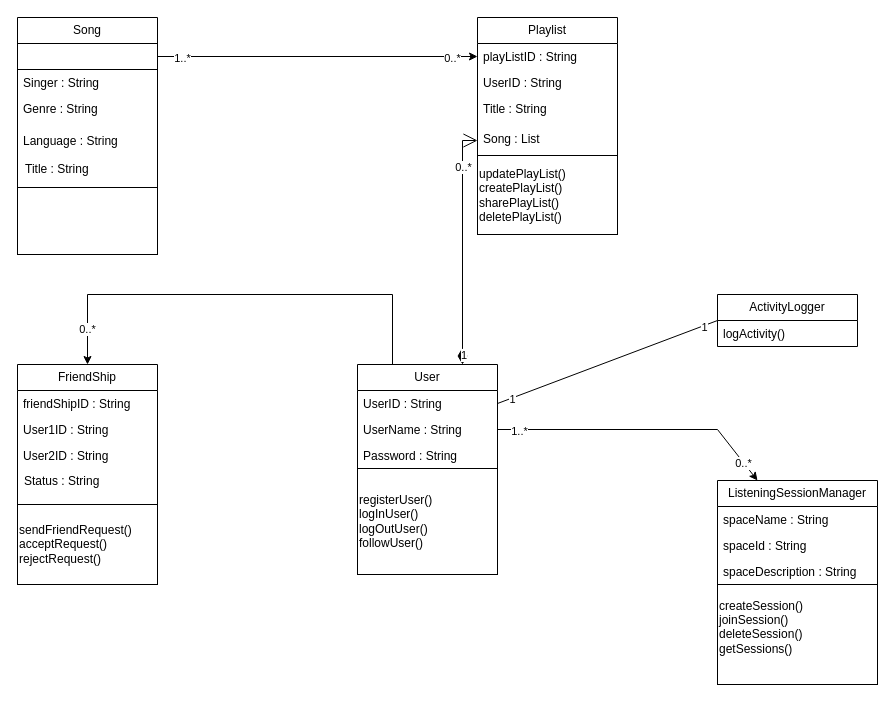
Some shapes in this 895 by 702 pixel diagram are drawn without their labels. The centre of each missing label's shape, as x and y in pixels:
"addSong() deleteSong()" goes at [87,220].
"Composer : String" goes at [87,56].
